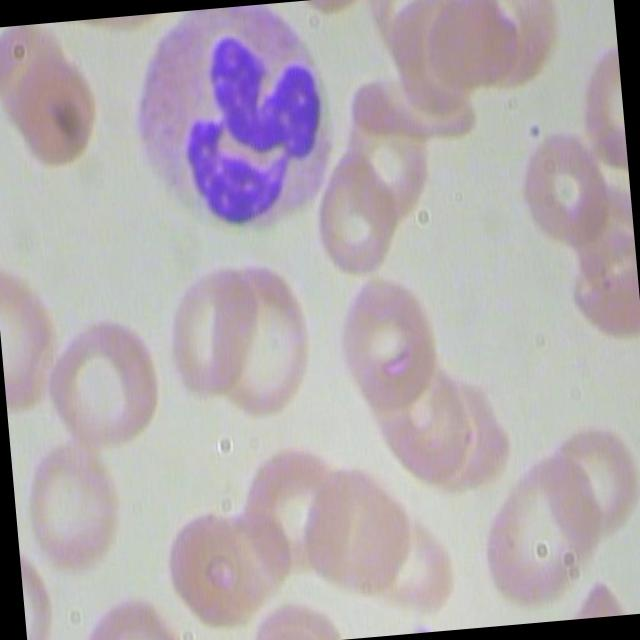RBC: (476, 442, 609, 605), (206, 252, 324, 430), (38, 297, 168, 456), (285, 456, 421, 600), (327, 263, 448, 418), (160, 258, 272, 404), (19, 435, 132, 573), (511, 113, 614, 249), (547, 403, 640, 541), (308, 148, 406, 274), (9, 46, 107, 166)
WBC: (113, 0, 355, 240)
